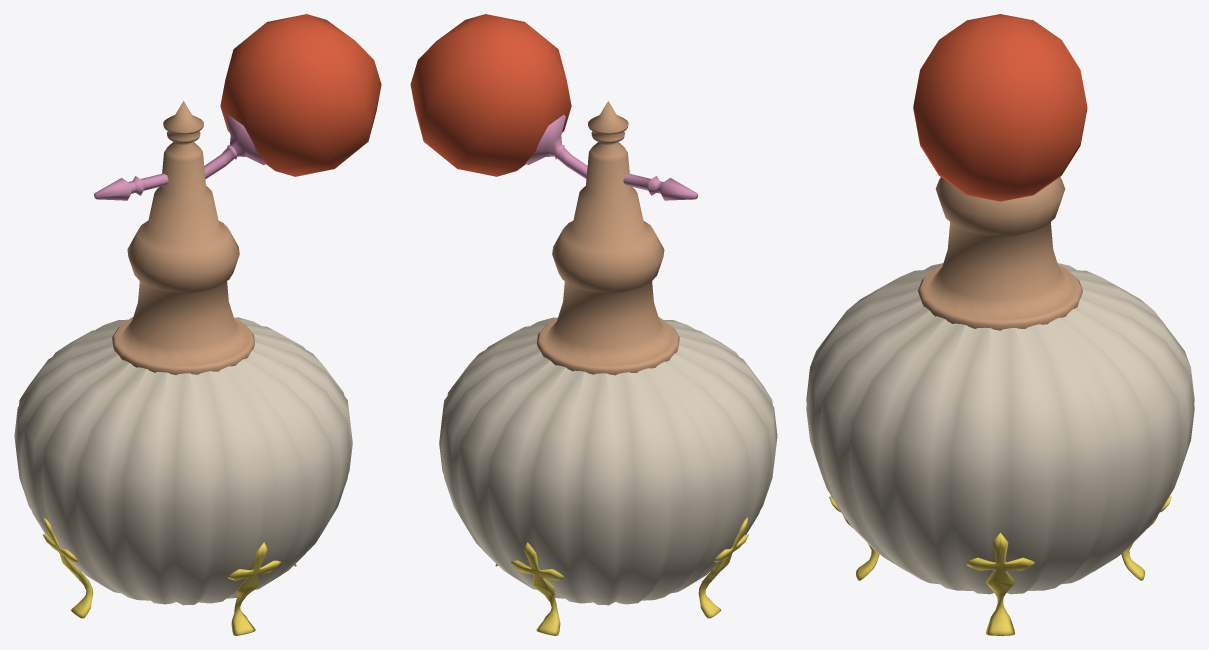
File: perfume_a003.fbx
3 renders of one model, left to right at view 1: azimuth 30°, elevation 25°; view 2: azimuth 150°, elevation 25°; view 3: azimuth 270°, elevation 25°, orthographic. The views are drawn at different scales.
Visible parts, largest first — view 1: perfume_base, perfume_ball; view 2: perfume_base, perfume_ball; view 3: perfume_base, perfume_ball.
Part boxes in pixels (box(x1,y1,x2,y2)): perfume_base: box(14, 101, 352, 635); perfume_ball: box(220, 14, 381, 176); perfume_base: box(439, 101, 777, 635); perfume_ball: box(410, 14, 571, 176); perfume_base: box(806, 177, 1194, 635); perfume_ball: box(913, 14, 1087, 201).
Size of the model in its own units: 36.74 by 57.18 by 32.63.
